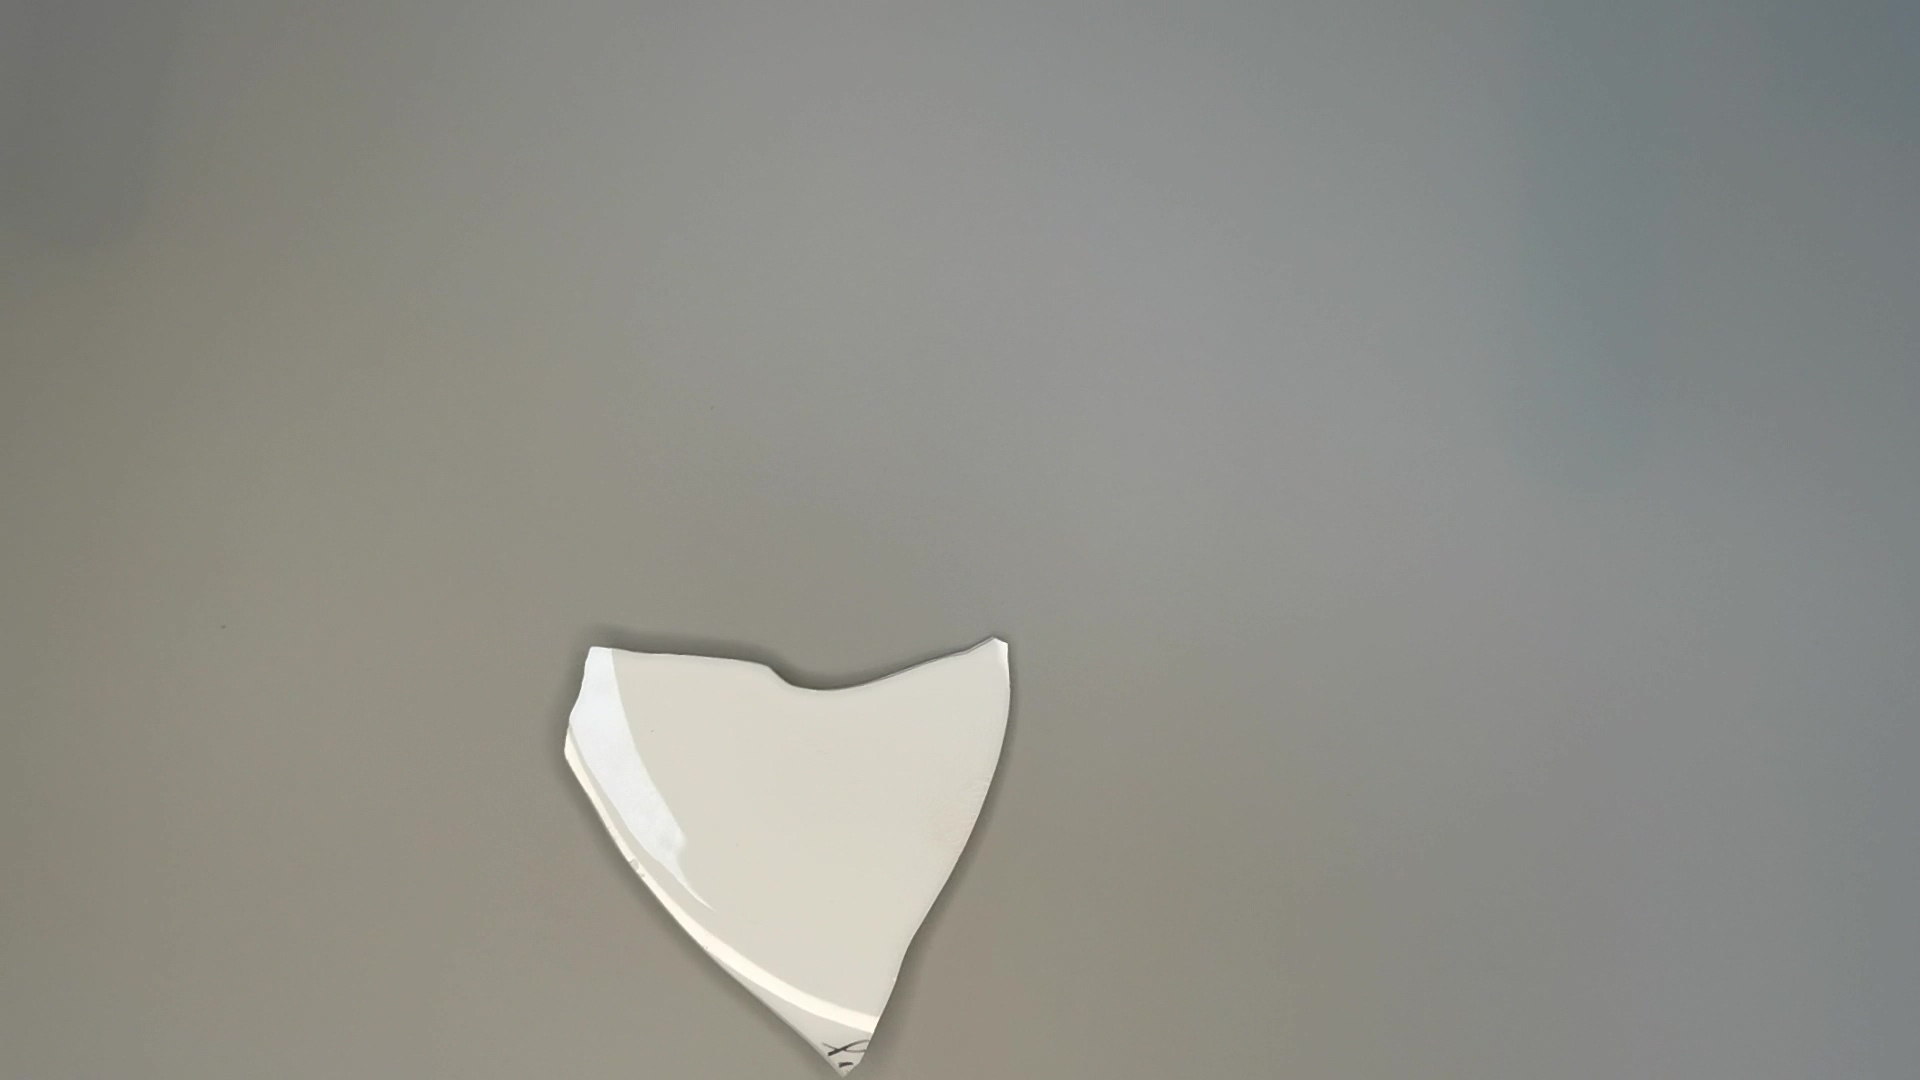ceramic: (564, 632, 1019, 1080)
